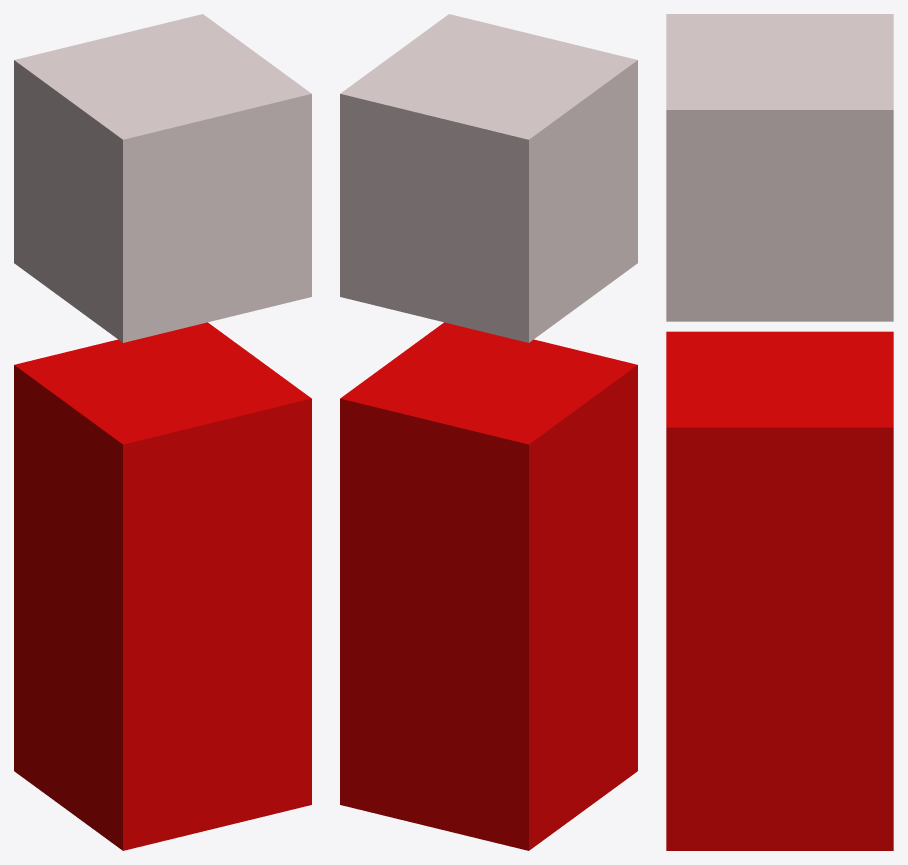
Rendered from IcecreamChildA.fbx.
3 views of the same model, side by side, from view 1: azimuth 30°, elevation 25°; view 2: azimuth 150°, elevation 25°; view 3: azimuth 270°, elevation 25° (orthographic). The views are drawn at different scales.
Visible parts, largest first — view 1: IcecreamChildA; view 2: IcecreamChildA; view 3: IcecreamChildA.
Part boxes in pixels (left/top/right/bottom): IcecreamChildA: left=14, top=14, right=311, bottom=850; IcecreamChildA: left=340, top=14, right=637, bottom=850; IcecreamChildA: left=666, top=14, right=893, bottom=850.
Bounding box in the file's own units: 25 × 90 × 25.
